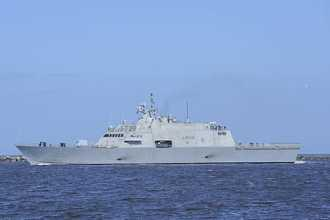warship: (7, 89, 305, 166)
